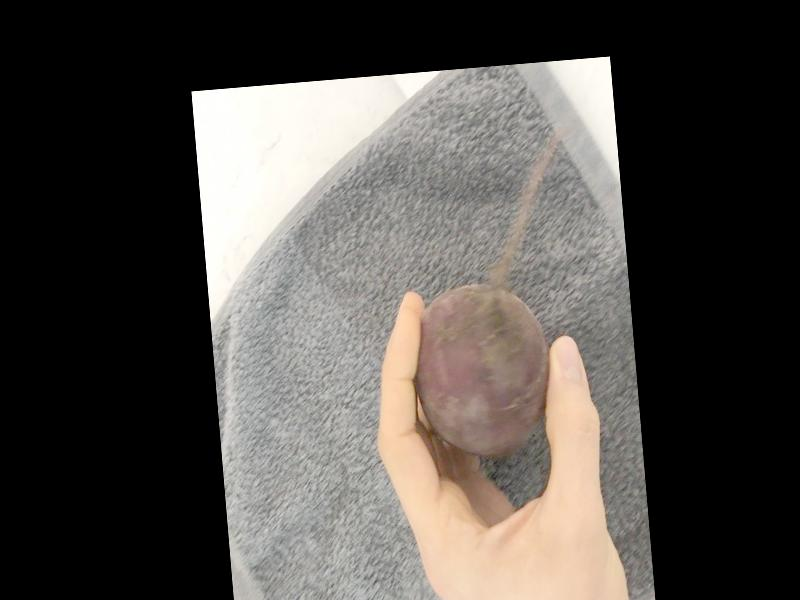Beet: (408, 280, 557, 462)
